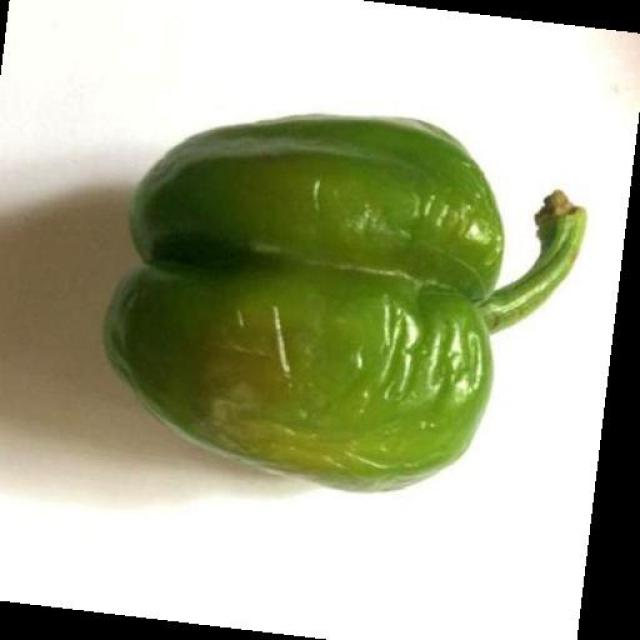Stale_Capsicum: (100, 78, 554, 471)
